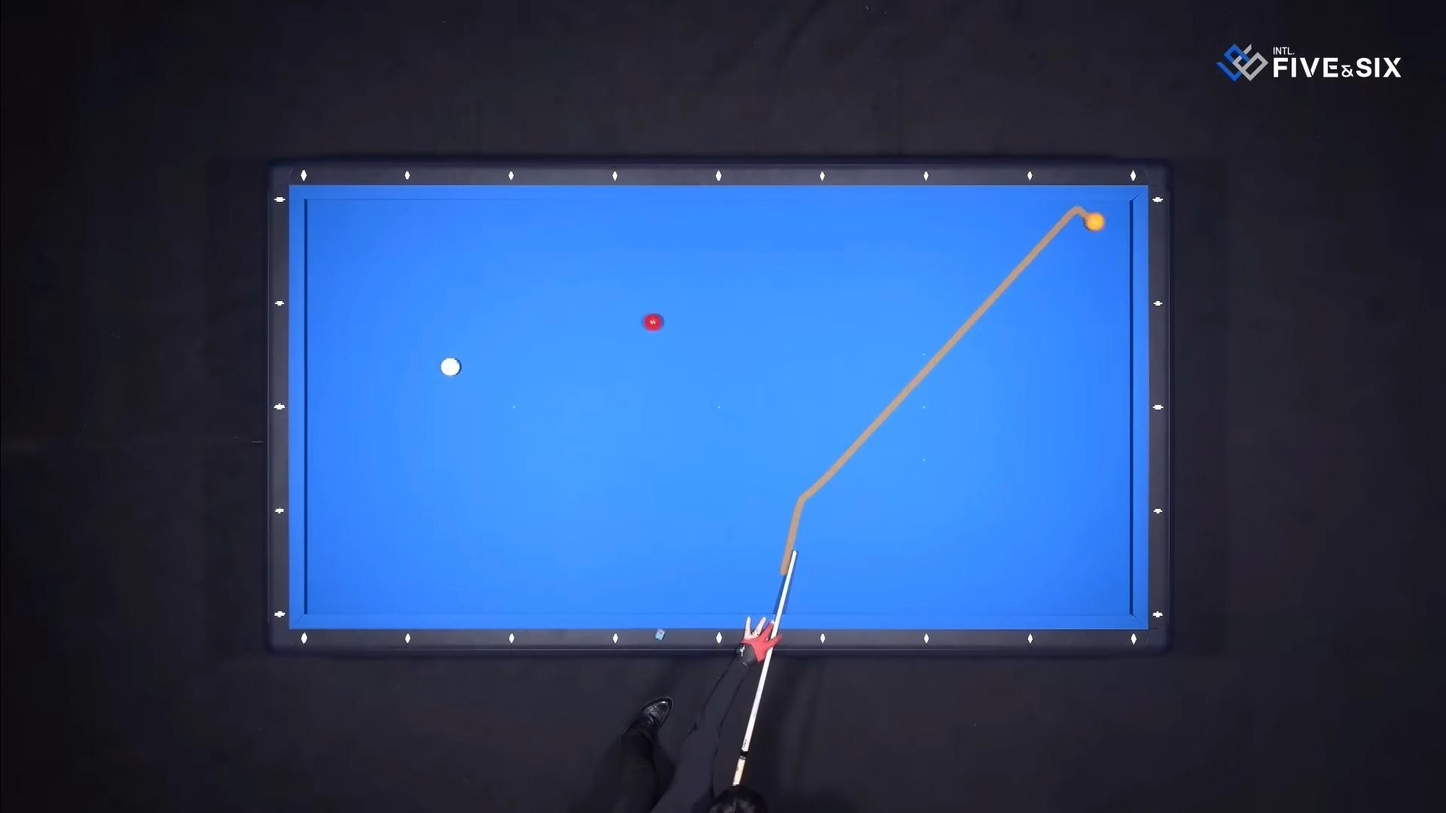Red: (641, 314, 665, 333)
White: (436, 357, 461, 377)
Yellow: (1085, 213, 1110, 233)
